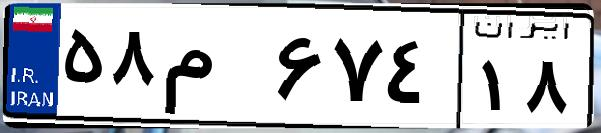1: (475, 38, 525, 113)
4: (385, 28, 445, 110)
5: (57, 26, 110, 100)
6: (270, 28, 330, 110)
7: (330, 28, 385, 110)
8: (525, 38, 570, 115), (110, 28, 158, 98)
م: (158, 20, 270, 120)
